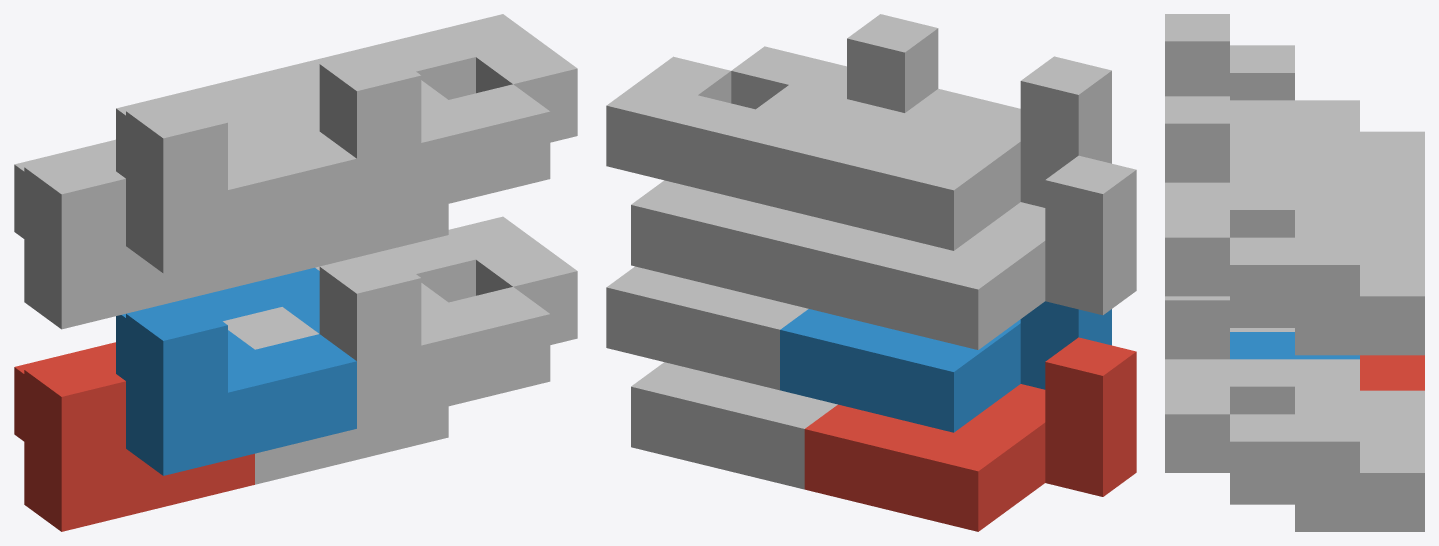
The model's file is tiling.obj.
3 views of the same model, side by side, from view 1: azimuth 30°, elevation 25°; view 2: azimuth 150°, elevation 25°; view 3: azimuth 270°, elevation 25° (orthographic). The views are drawn at different scales.
Parts seen in each view (by area): view 1: copy_1_domain_8, copy_1_domain_6, copy_1_domain_4, copy_1_domain_2, copy_1_domain_3, copy_1_domain_1, copy_1_domain_5, copy_1_domain_7; view 2: copy_1_domain_4, copy_1_domain_1, copy_1_domain_3, copy_1_domain_8, copy_1_domain_2, copy_1_domain_7, copy_1_domain_5, copy_1_domain_6; view 3: copy_1_domain_8, copy_1_domain_6, copy_1_domain_4, copy_1_domain_7, copy_1_domain_5, copy_1_domain_3, copy_1_domain_1, copy_1_domain_2.
Part boxes in pixels (<box>): copy_1_domain_8: <box>310,14,577,225</box>; copy_1_domain_6: <box>315,216,577,428</box>; copy_1_domain_4: <box>116,61,356,273</box>; copy_1_domain_2: <box>116,267,356,475</box>; copy_1_domain_3: <box>14,139,254,329</box>; copy_1_domain_1: <box>14,342,254,531</box>; copy_1_domain_5: <box>223,307,448,484</box>; copy_1_domain_7: <box>223,104,448,281</box>; copy_1_domain_4: <box>780,56,1111,250</box>; copy_1_domain_1: <box>804,337,1136,531</box>; copy_1_domain_3: <box>804,155,1136,349</box>; copy_1_domain_8: <box>606,14,938,208</box>; copy_1_domain_2: <box>780,301,1111,432</box>; copy_1_domain_7: <box>631,113,962,307</box>; copy_1_domain_5: <box>631,362,837,489</box>; copy_1_domain_6: <box>606,266,808,390</box>; copy_1_domain_8: <box>1165,96,1359,323</box>; copy_1_domain_6: <box>1165,296,1359,500</box>; copy_1_domain_4: <box>1165,14,1359,182</box>; copy_1_domain_7: <box>1230,127,1424,355</box>; copy_1_domain_5: <box>1230,328,1424,531</box>; copy_1_domain_3: <box>1230,45,1424,213</box>; copy_1_domain_1: <box>1360,355,1424,390</box>; copy_1_domain_2: <box>1230,332,1359,359</box>.
Size of the model in its own units: 8 by 6 by 4.
